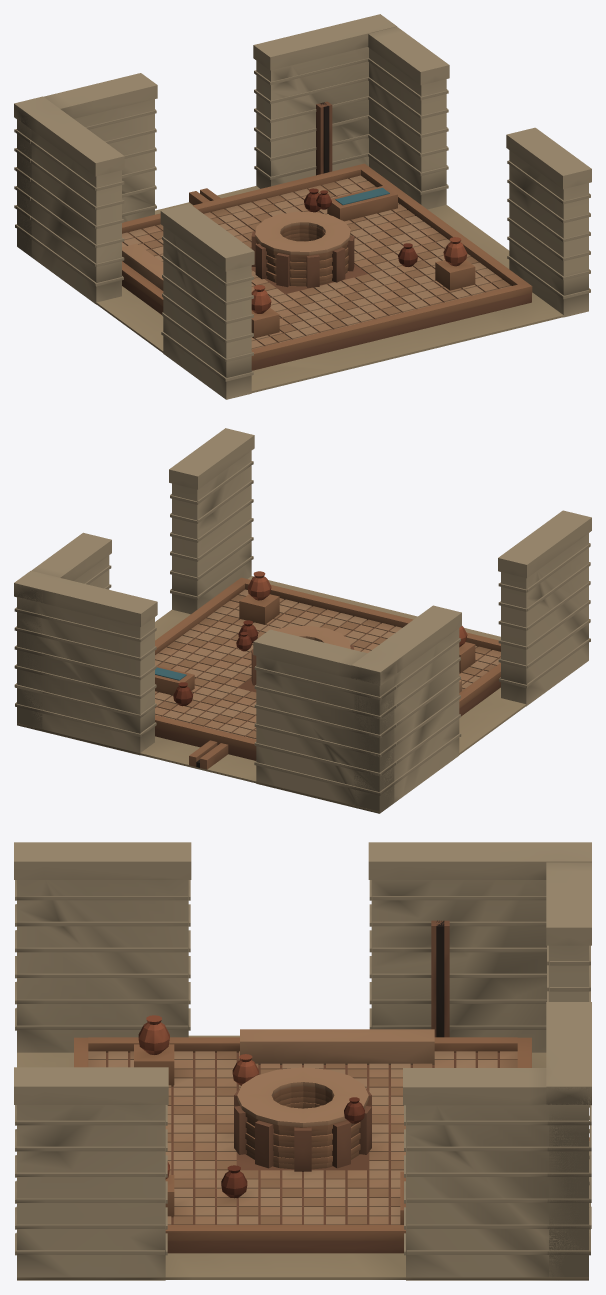
The model's file is dk-g-well.glb.
The picture shows the model from 3 angles, top to bottom: view 1: azimuth 30°, elevation 25°; view 2: azimuth 150°, elevation 25°; view 3: azimuth 270°, elevation 25°; orthographic projection. The views are drawn at different scales.
Parts seen in each view (by area): view 1: p2_pots and houses, p0_platform, p1_well shaft; view 2: p2_pots and houses, p0_platform, p1_well shaft; view 3: p2_pots and houses, p0_platform, p1_well shaft.
Part boxes in pixels (left/top/right/bottom): p2_pots and houses: left=14, top=14, right=591, bottom=399; p0_platform: left=96, top=163, right=563, bottom=392; p1_well shaft: left=251, top=211, right=354, bottom=287; p2_pots and houses: left=14, top=428, right=591, bottom=813; p0_platform: left=17, top=576, right=526, bottom=813; p1_well shaft: left=251, top=625, right=354, bottom=685; p2_pots and houses: left=14, top=842, right=591, bottom=1280; p0_platform: left=17, top=1035, right=589, bottom=1279; p1_well shaft: left=234, top=1067, right=371, bottom=1171.
Size of the model in its own units: 10.1 by 3.76 by 10.1.
